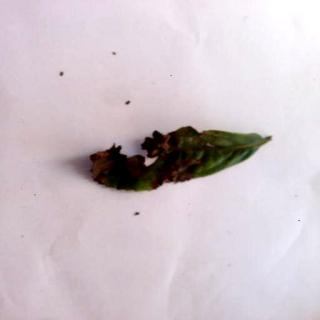Algal Leaf: (91, 126, 272, 193)
